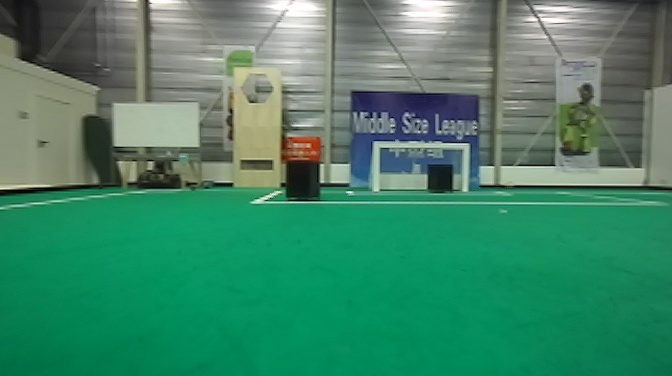goalpost: (459, 142, 469, 193), (371, 140, 380, 191)
